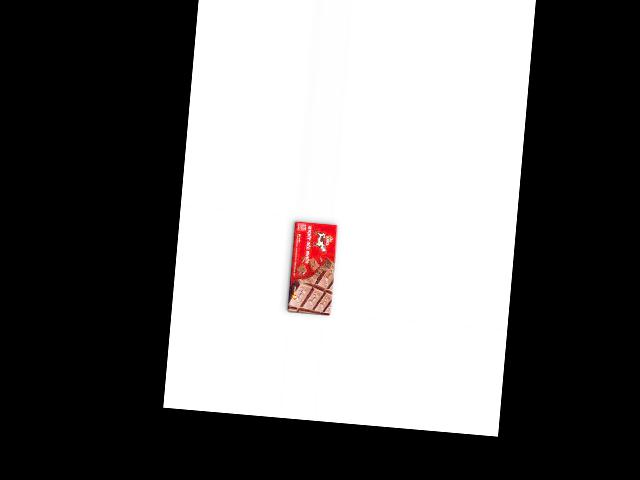chocolate: (283, 218, 340, 317)
